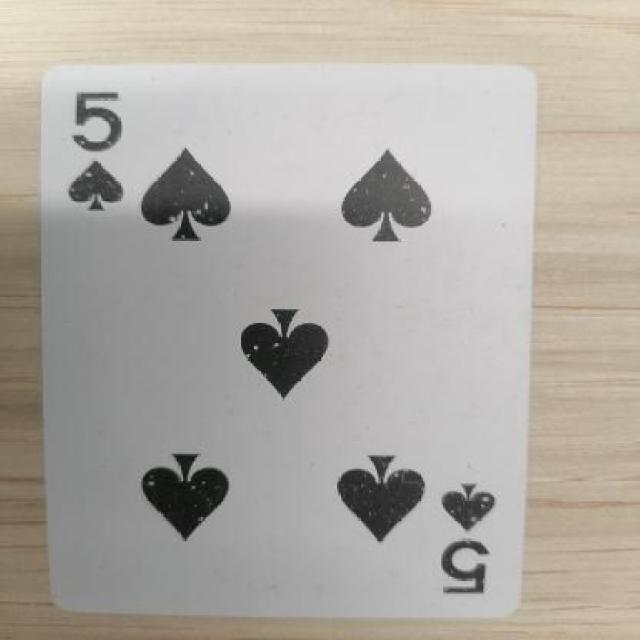5S: (48, 92, 157, 231), (434, 477, 517, 605)
